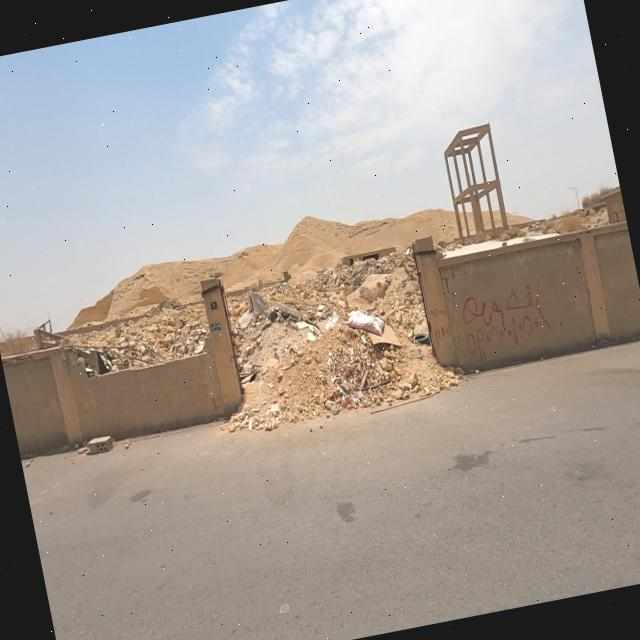Graffiti: (459, 280, 556, 357), (428, 305, 454, 347)
